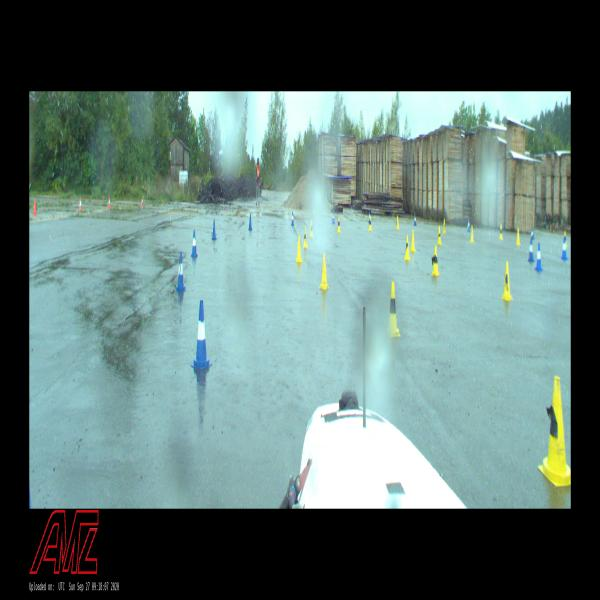blue_cone: (191, 300, 212, 370), (175, 253, 186, 292), (535, 243, 543, 271), (191, 230, 198, 258), (561, 236, 568, 260), (528, 238, 534, 262), (248, 213, 253, 230), (212, 220, 216, 239), (291, 210, 294, 226), (531, 226, 534, 240), (467, 218, 470, 232), (368, 210, 371, 224), (332, 211, 335, 224), (414, 214, 416, 226)
orange_cone: (78, 196, 82, 212), (33, 200, 37, 215), (108, 196, 111, 209), (141, 196, 144, 206)
yellow_cone: (538, 376, 571, 487), (386, 282, 401, 337), (501, 262, 513, 300), (318, 252, 330, 290), (431, 245, 440, 276), (296, 235, 302, 262), (404, 235, 410, 260), (410, 231, 416, 252), (303, 226, 308, 248), (437, 225, 442, 245), (470, 224, 474, 243), (564, 230, 568, 248), (310, 220, 314, 237), (368, 215, 372, 232), (516, 228, 520, 245), (499, 224, 503, 240), (337, 217, 341, 232), (443, 219, 446, 234), (396, 216, 399, 229)
